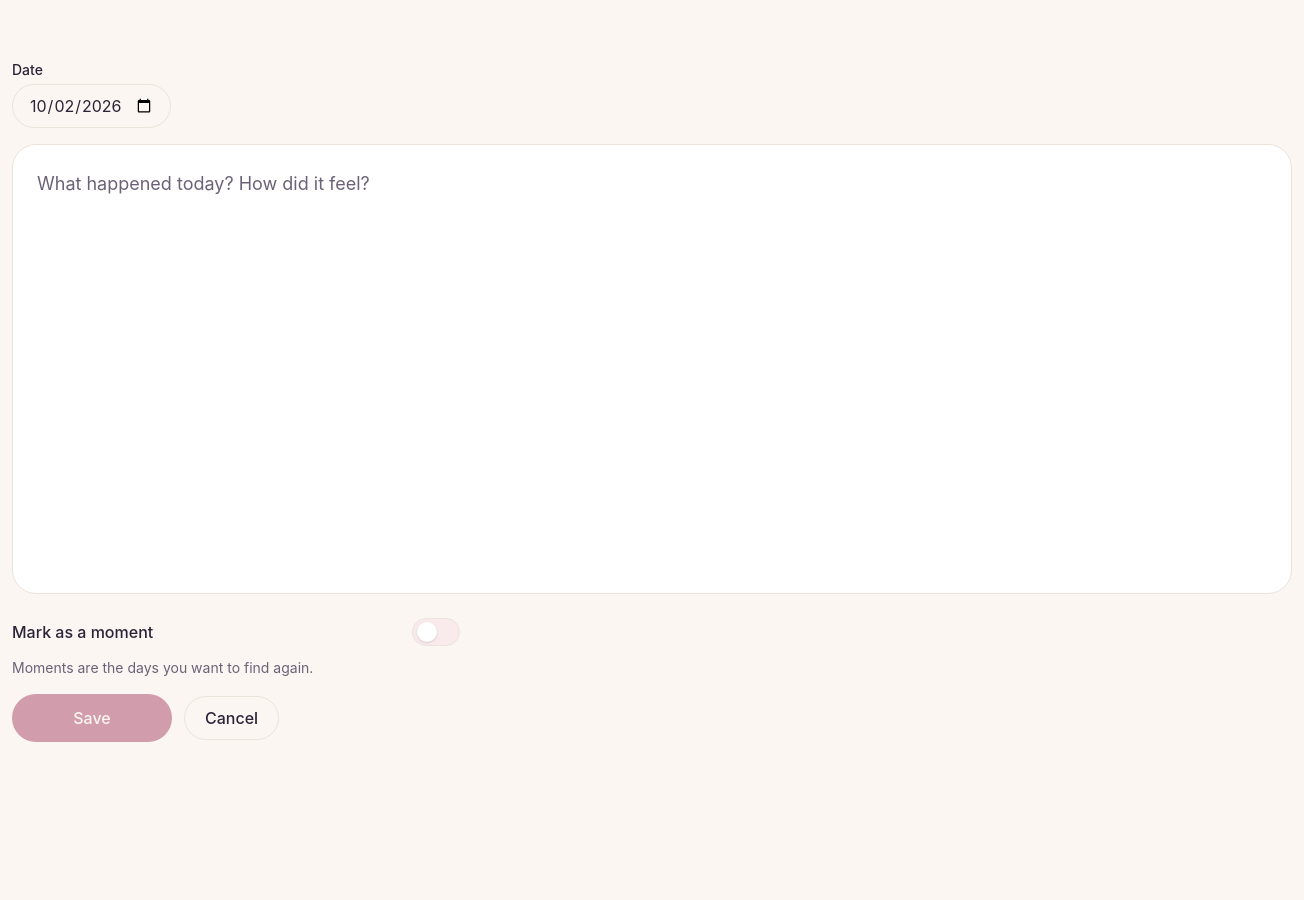
Test case: EntryEditor: a new entry › while a save is out: Save says so (aria-disabled) but isn't disabled, so focus stays on it; a second press sends nothing
The width and height of the screenshot is (1304, 900).
In the text box with test id "entry-text": [652, 369] box x1=12 y1=144 x2=1292 y2=594, type "Once"
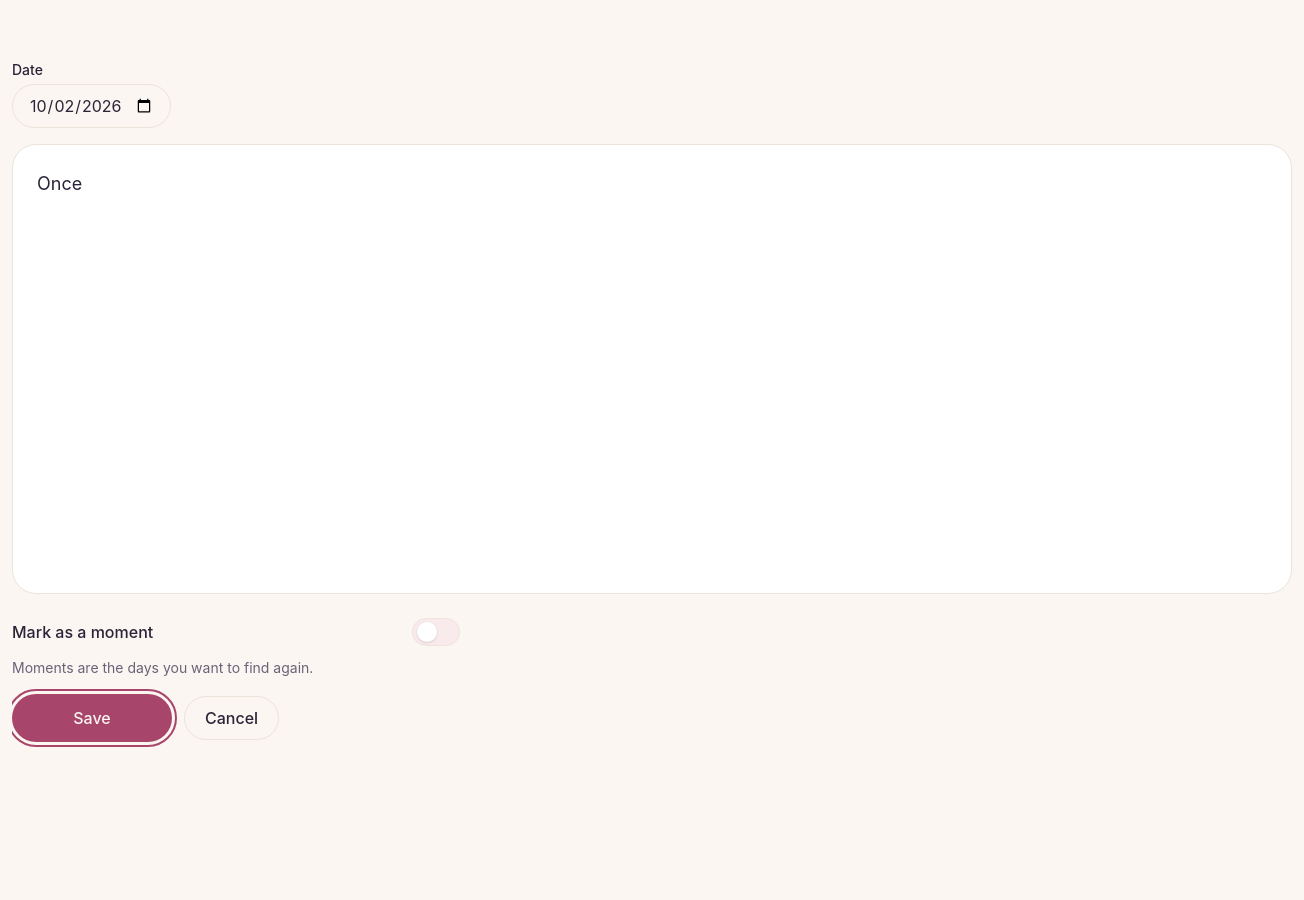
Click the button with test id "entry-save": [92, 718] box x1=12 y1=694 x2=172 y2=742
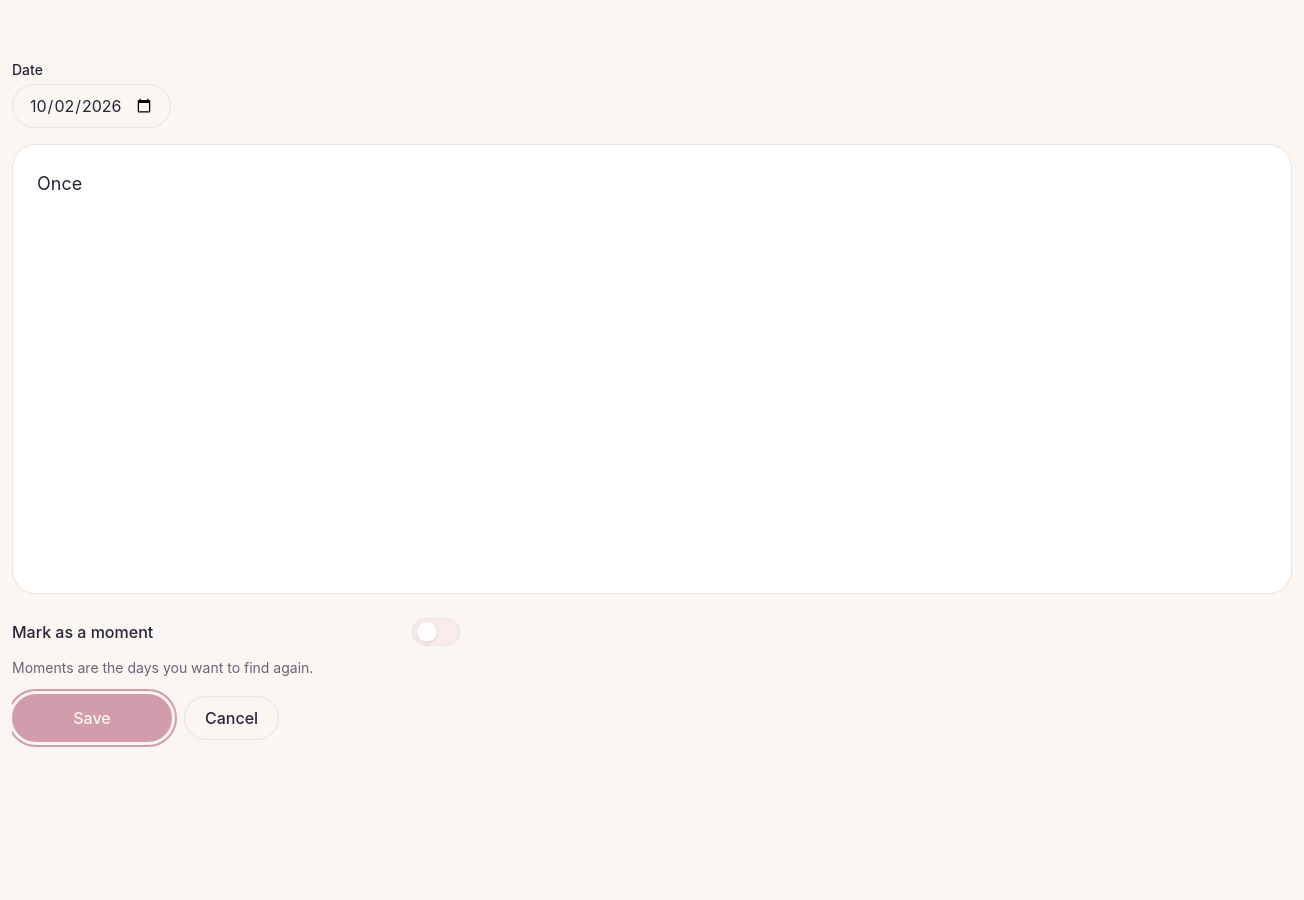
Expected: the button with test id "entry-save" is enabled
Click the button with test id "entry-save": [92, 718] box x1=12 y1=694 x2=172 y2=742
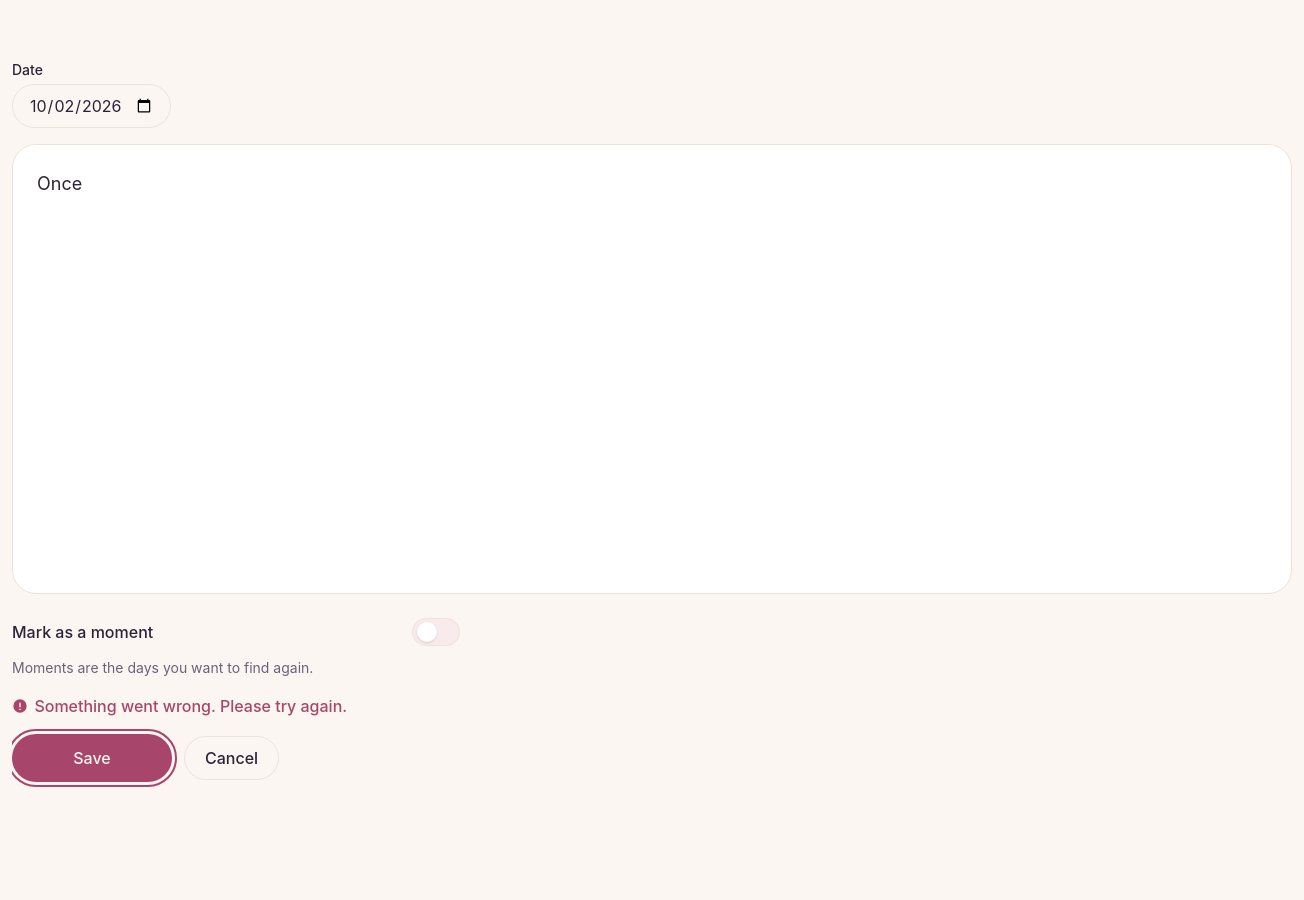
Expected: the message with test id "entry-error" reads "Something went wrong. Please try again.", x1=34 y1=696 x2=347 y2=716
